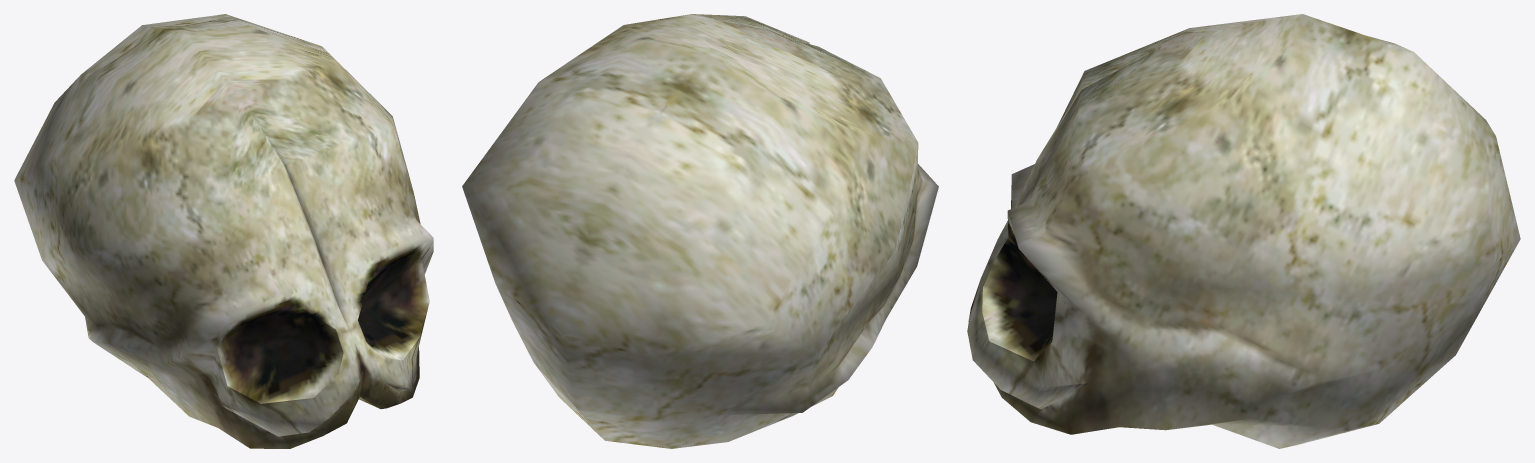
Rendered from poi_all_skeleton_bith_head_l0.fbx.
The picture shows the model from 3 angles, left to right: view 1: azimuth 30°, elevation 25°; view 2: azimuth 150°, elevation 25°; view 3: azimuth 270°, elevation 25°; orthographic projection. The views are drawn at different scales.
Visible parts, largest first — view 1: mesh_node; view 2: mesh_node; view 3: mesh_node.
Part boxes in pixels (x1,y1,x2,y2): mesh_node: (14, 14, 433, 448); mesh_node: (462, 14, 938, 448); mesh_node: (967, 14, 1520, 448).
Size of the model in its own units: 0.2083 by 0.2158 by 0.2719.
1 material, 1 textured.
